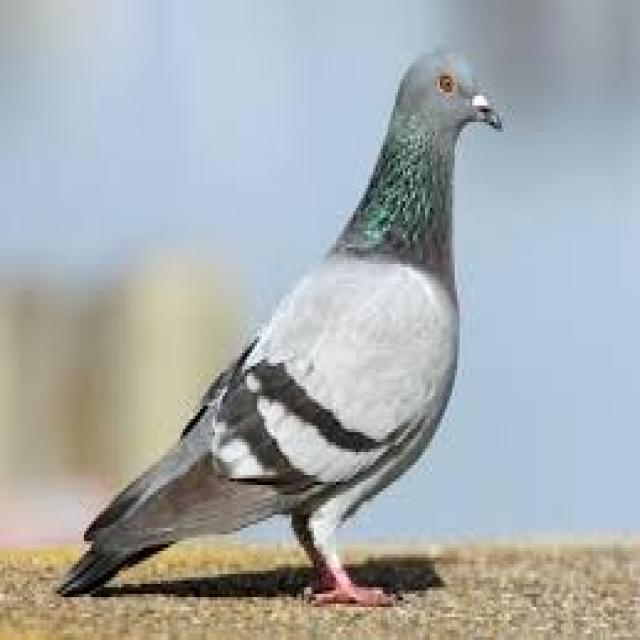pigeon: (64, 0, 508, 640)
